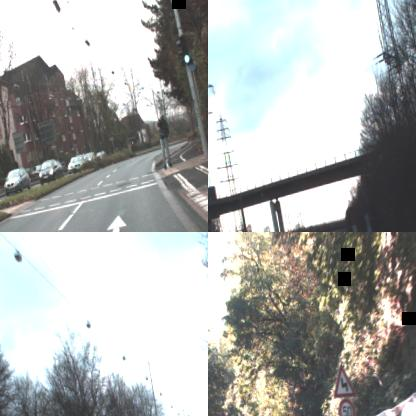bend left: (328, 360, 356, 400)
speed limit 50: (337, 395, 357, 416)
